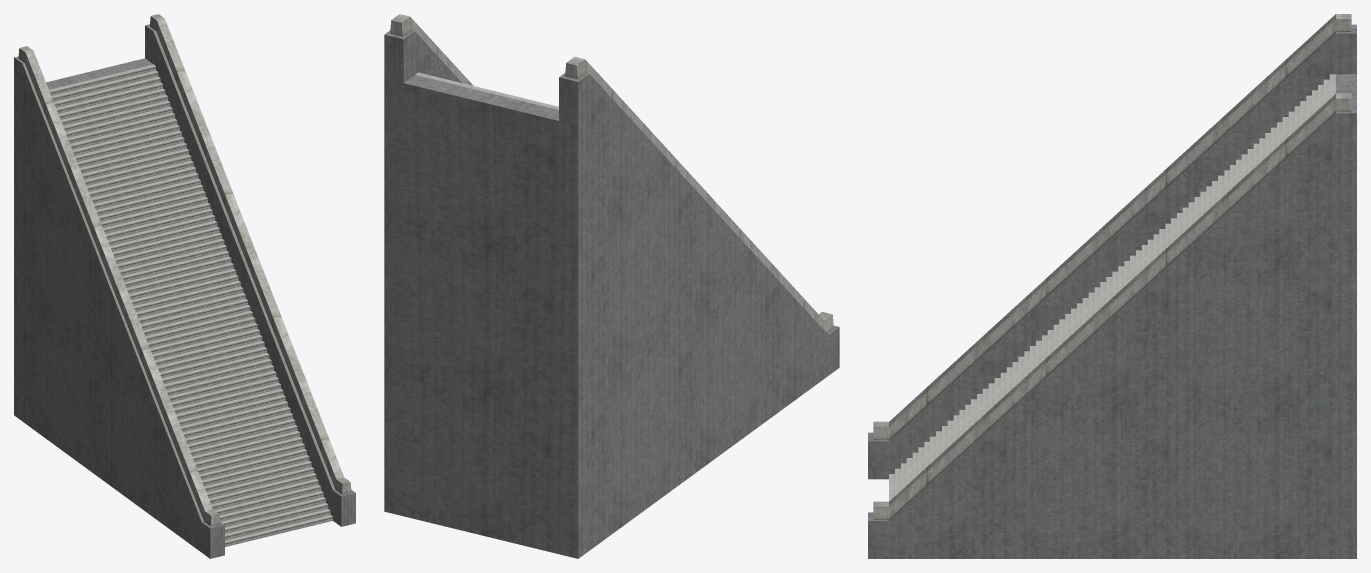
Rendered from thm_corl_imprv_stair_large_s01_l0.fbx.
3 renders of one model, left to right at view 1: azimuth 30°, elevation 25°; view 2: azimuth 150°, elevation 25°; view 3: azimuth 270°, elevation 25°, orthographic. The views are drawn at different scales.
Visible parts, largest first — view 1: mesh_node; view 2: mesh_node; view 3: mesh_node.
Boxes of the visible parts, bbox=[...] form: mesh_node: bbox=[14, 14, 355, 558]; mesh_node: bbox=[384, 14, 839, 558]; mesh_node: bbox=[868, 14, 1356, 558].
Size of the model in its own units: 7.5 by 18.11 by 17.5.
